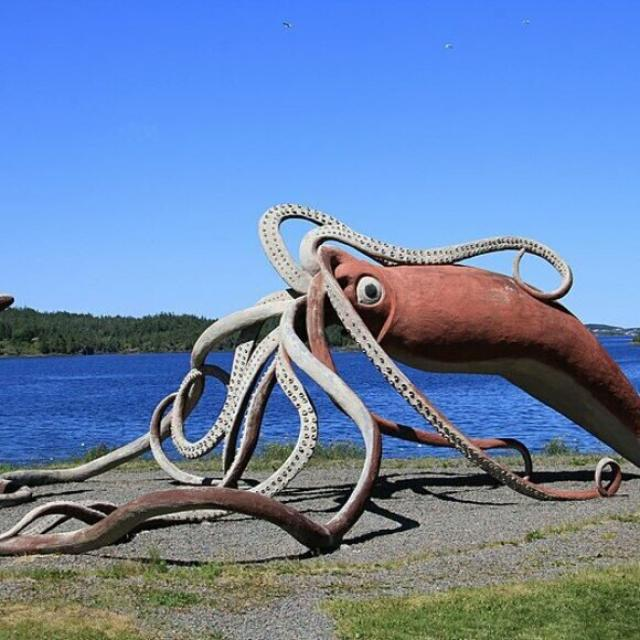squid: (0, 204, 639, 555)
